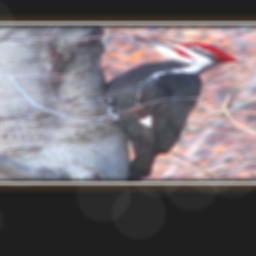Woodpecker: (84, 36, 241, 182)
